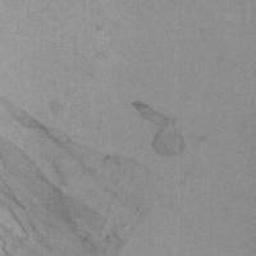Water spot: (0, 92, 161, 256), (125, 96, 195, 163)
